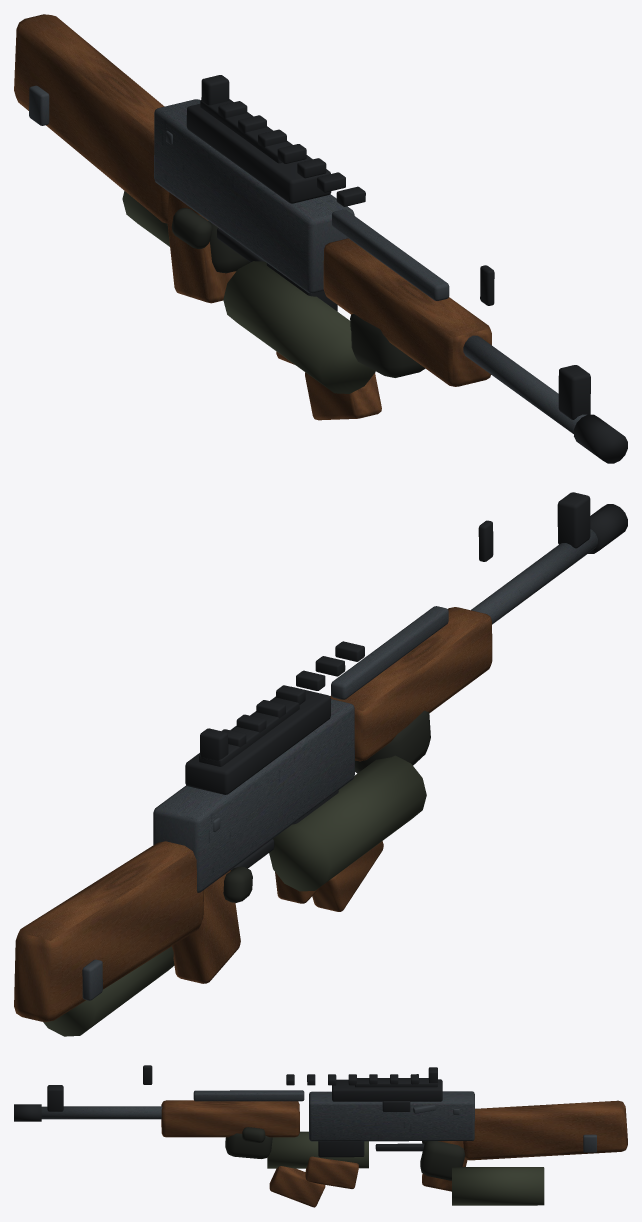
File: weapon_sks.glb
The picture shows the model from 3 angles, top to bottom: view 1: azimuth 30°, elevation 25°; view 2: azimuth 150°, elevation 25°; view 3: azimuth 270°, elevation 25°; orthographic projection. The views are drawn at different scales.
Visible parts, largest first — view 1: WeaponMesh; view 2: WeaponMesh; view 3: WeaponMesh.
Part boxes in pixels (x1,y1,x2,y2): WeaponMesh: (14, 14, 627, 463); WeaponMesh: (14, 492, 627, 1036); WeaponMesh: (14, 1065, 627, 1207).
Size of the model in its own units: 0.1707 by 0.3343 by 1.33.
5 materials, 2 textured.
